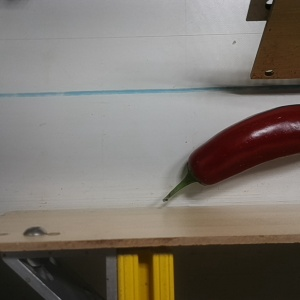Cut Point: (179, 154, 219, 188)
